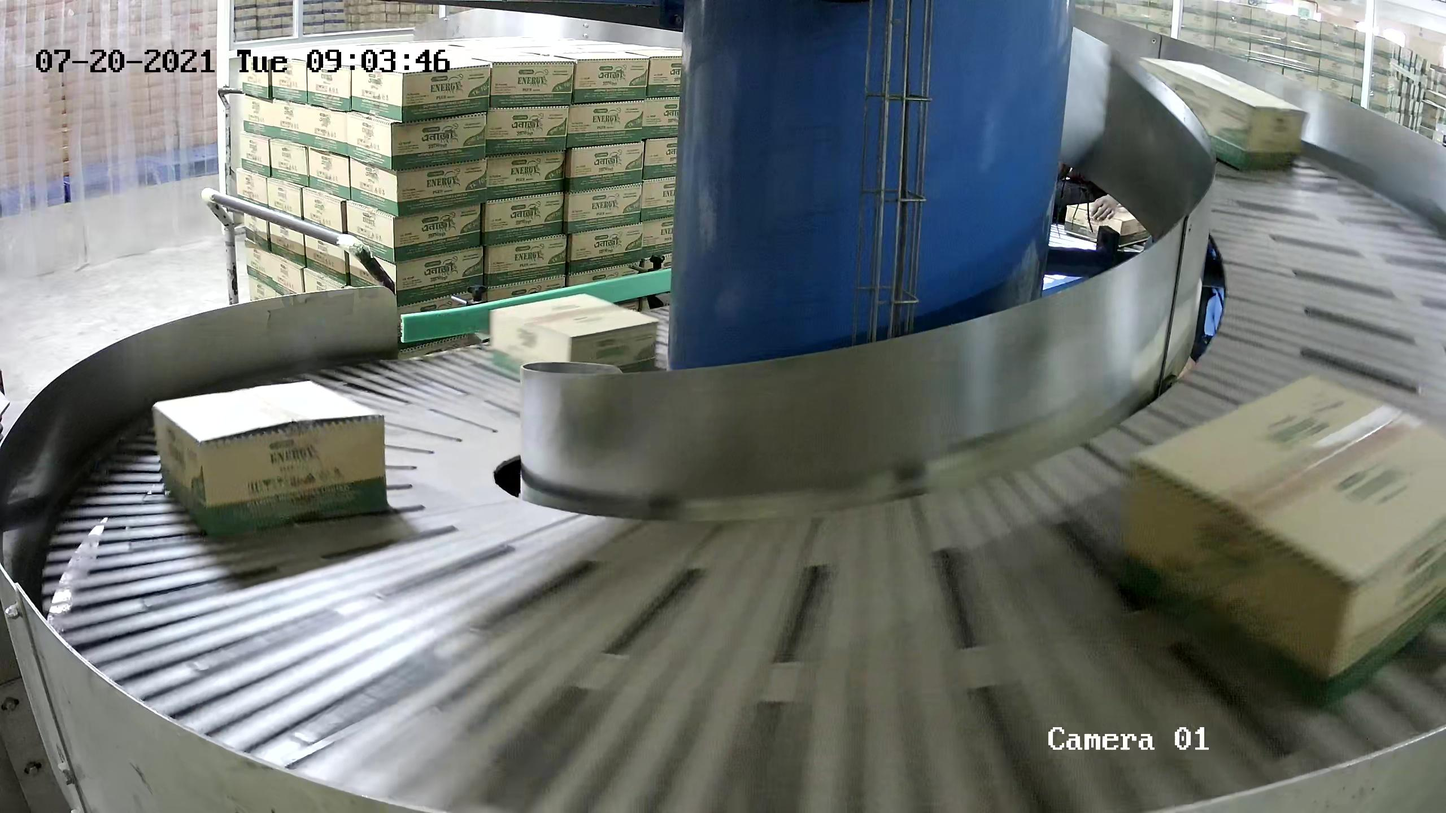Box: (1112, 371, 1446, 711), (151, 379, 388, 536), (1135, 56, 1310, 171), (489, 292, 661, 377)
